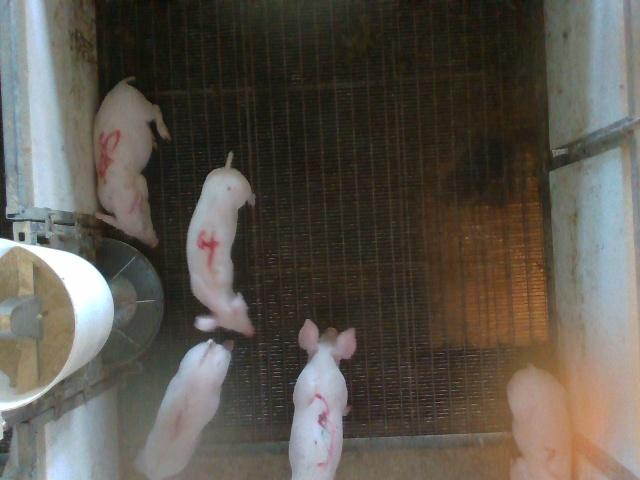pig-1: (135, 339, 231, 479)
pig-3: (289, 319, 355, 479)
pig-4: (186, 152, 255, 336)
pig-5: (94, 76, 170, 247)
